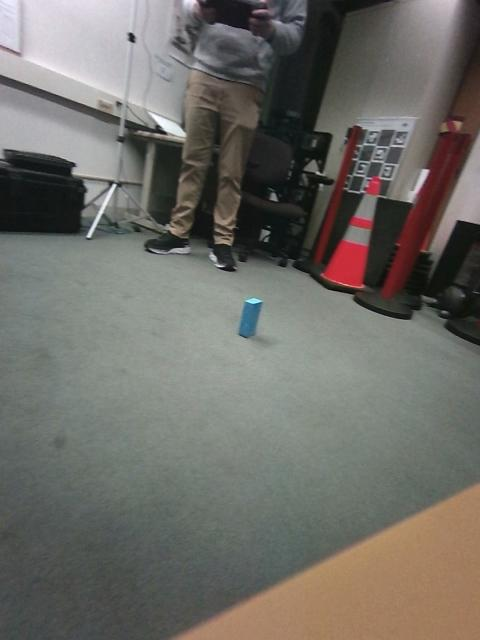block: (5, 283, 42, 348)
